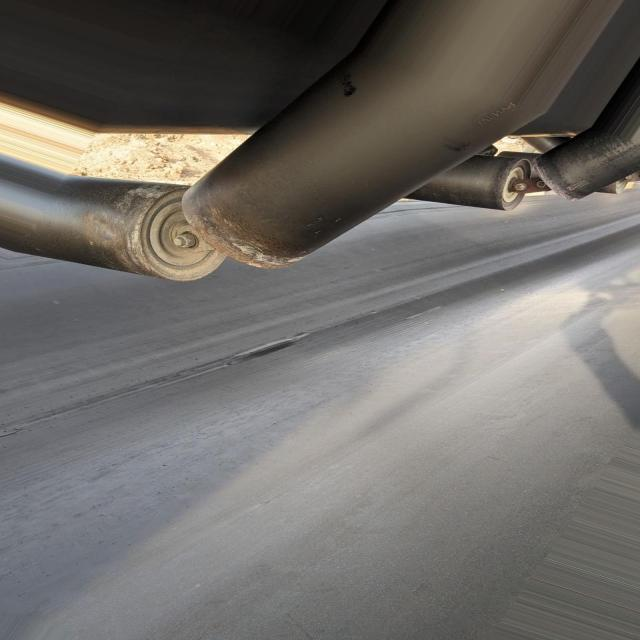Roller: (184, 67, 531, 270), (16, 175, 224, 278), (533, 127, 640, 197), (409, 160, 540, 212)
impact damage: (226, 337, 294, 364)
